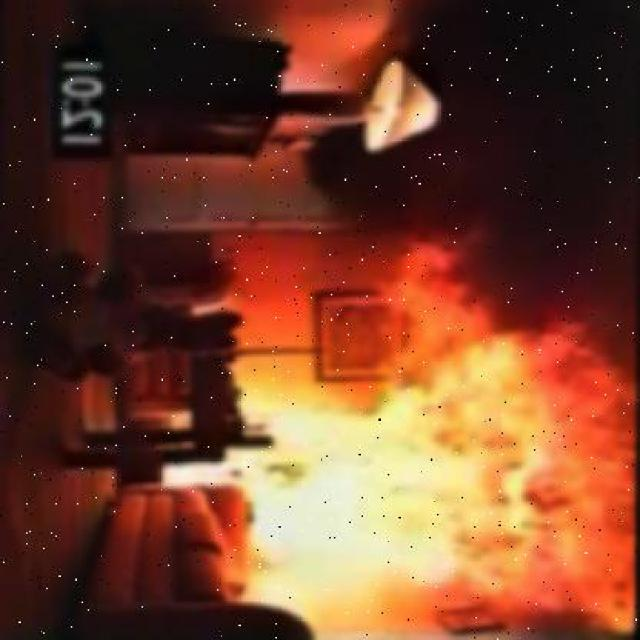fire: (195, 358, 638, 639)
